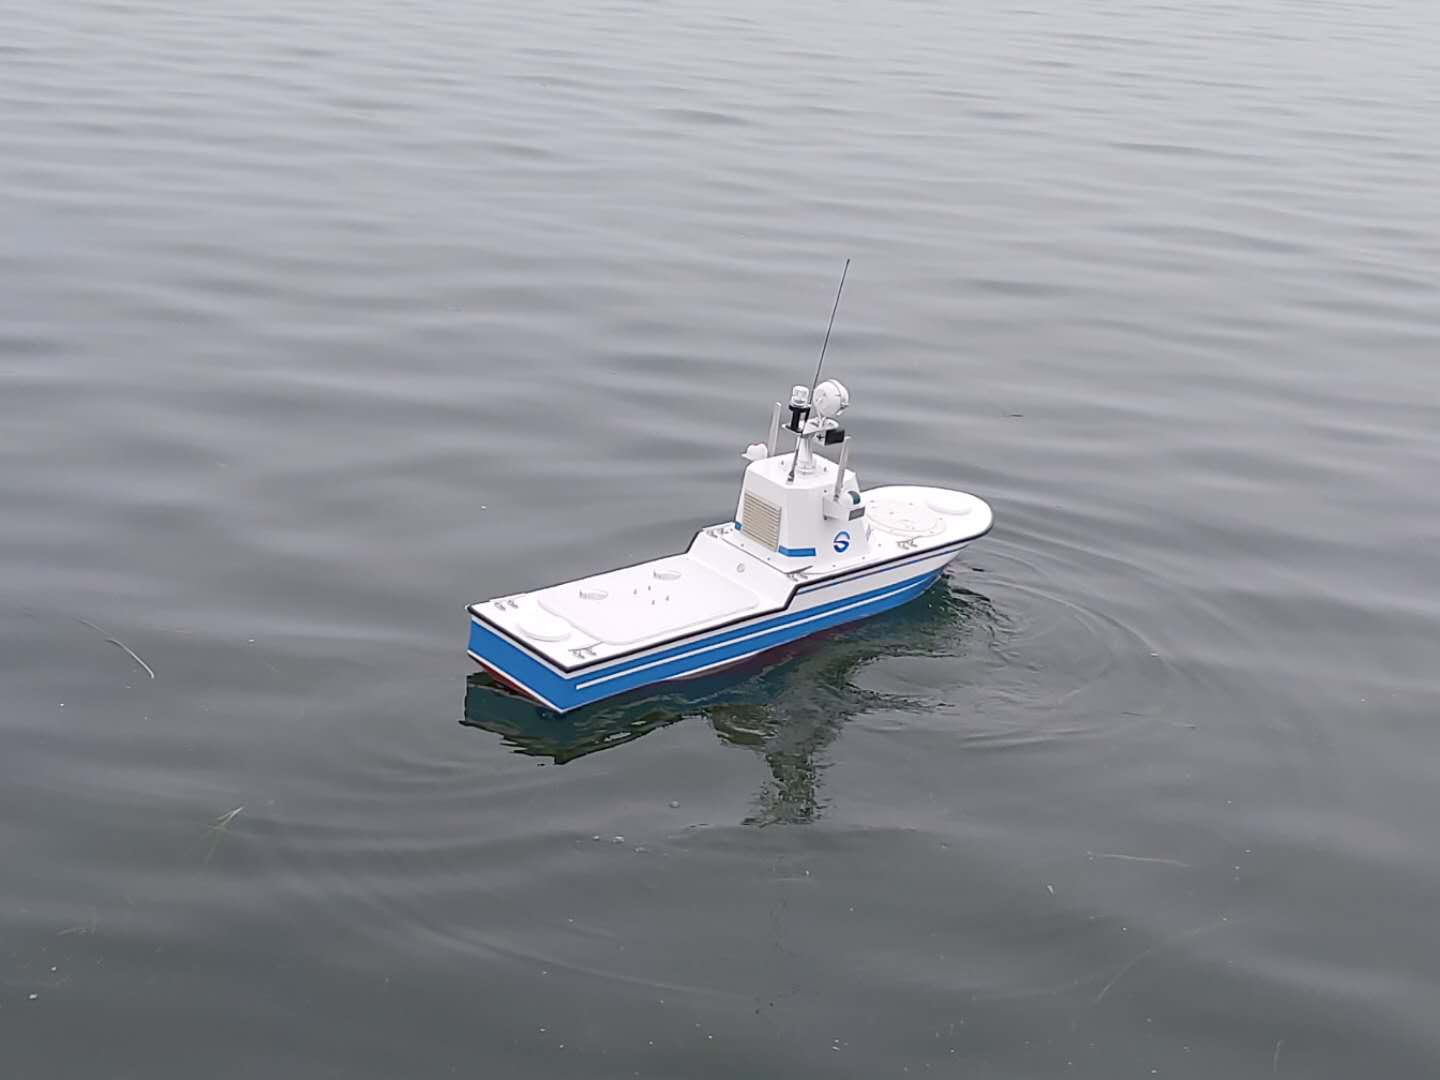boat: (448, 378, 1011, 723)
